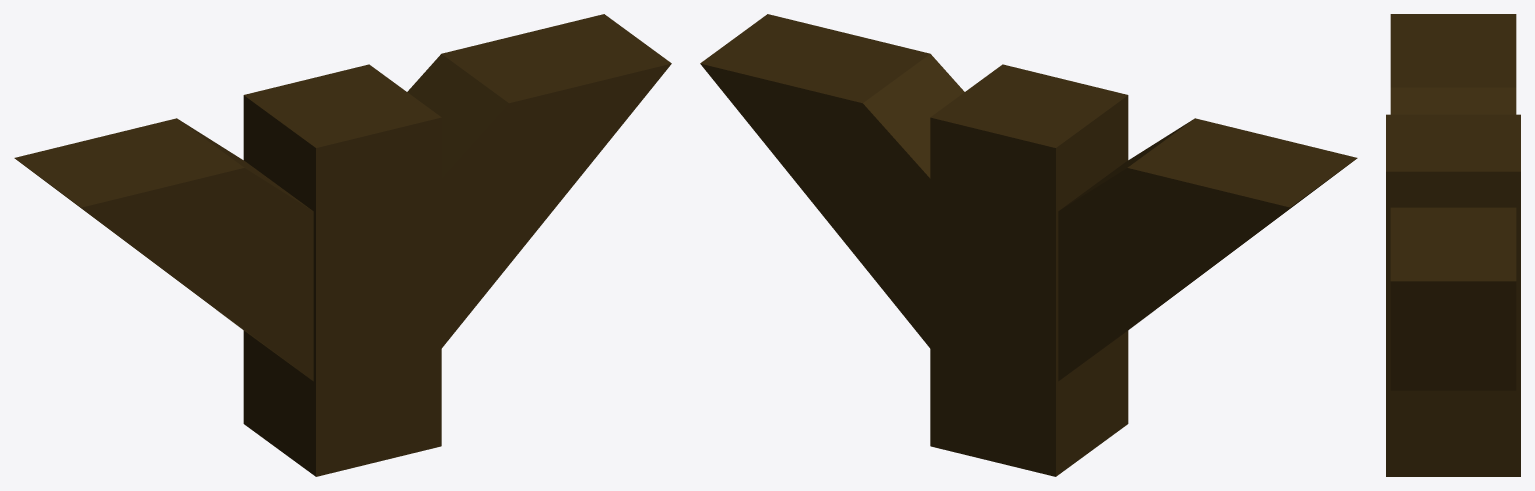
File: temelj bocna sredina.FBX
3 renders of one model, left to right at view 1: azimuth 30°, elevation 25°; view 2: azimuth 150°, elevation 25°; view 3: azimuth 270°, elevation 25°, orthographic. The views are drawn at different scales.
Visible parts, largest first — view 1: temelj_drvo_sredina004; view 2: temelj_drvo_sredina004; view 3: temelj_drvo_sredina004.
Part boxes in pixels (x1,y1,x2,y2): temelj_drvo_sredina004: (14, 14, 671, 476); temelj_drvo_sredina004: (700, 14, 1357, 476); temelj_drvo_sredina004: (1386, 14, 1520, 476).
Size of the model in its own units: 93.93 by 50 by 20.
